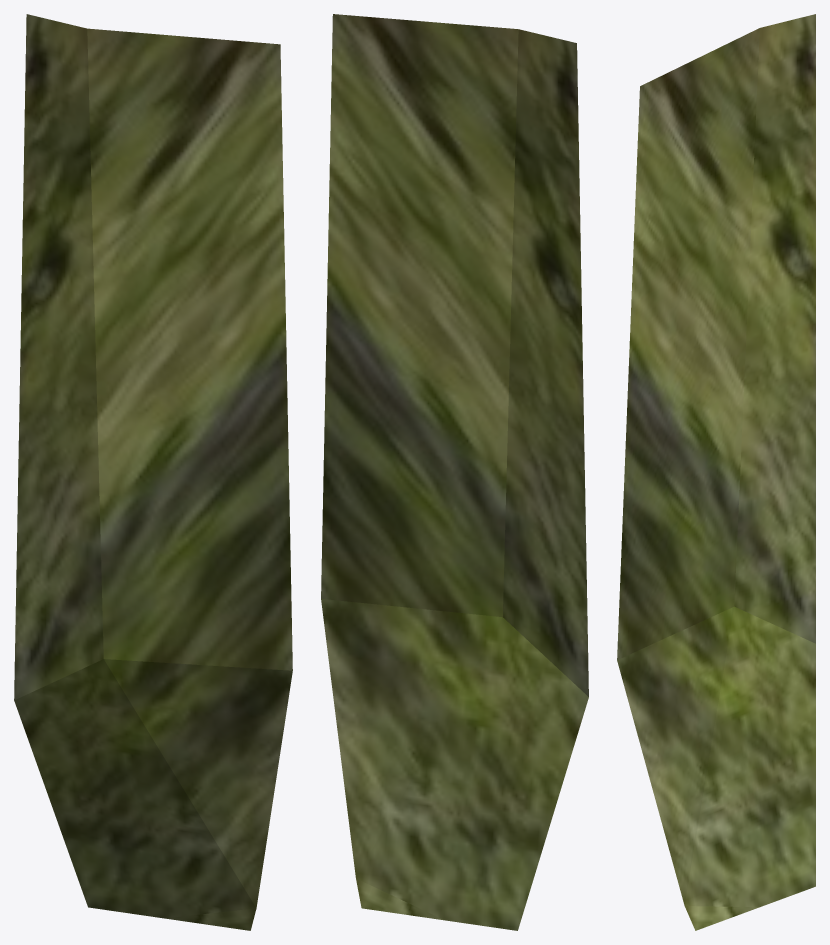
3 views of the same model, side by side, from view 1: azimuth 30°, elevation 25°; view 2: azimuth 210°, elevation 25°; view 3: azimuth 270°, elevation 25° (orthographic). The views are drawn at different scales.
Bounding box in the file's own units: 0.5837 × 2.95 × 0.6293.
Materials: 1 (1 with a texture image).
